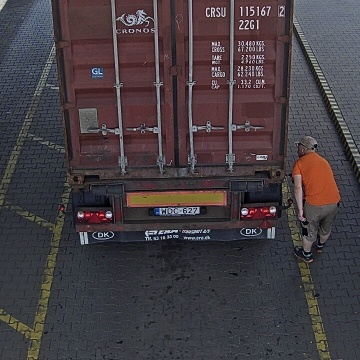serial_id: (206, 6, 285, 17)
